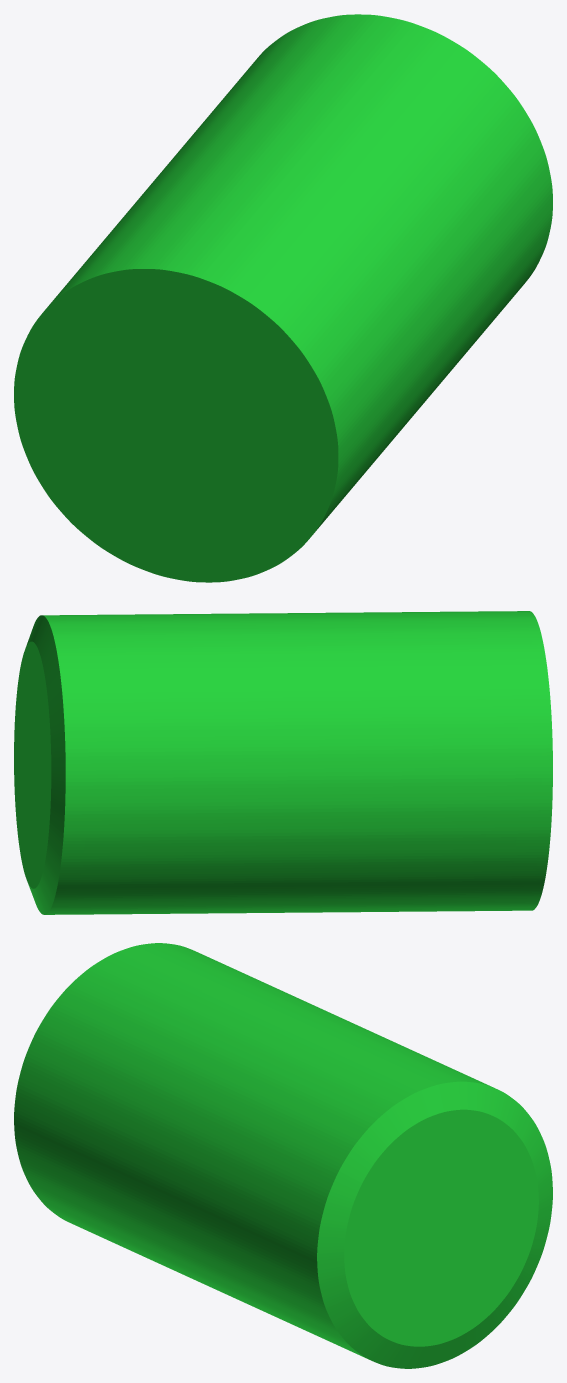
Rendered from cannon.fbx.
3 renders of one model, top to bottom at view 1: azimuth 30°, elevation 25°; view 2: azimuth 150°, elevation 25°; view 3: azimuth 270°, elevation 25°, orthographic. The views are drawn at different scales.
Parts seen in each view (by area): view 1: Cylinder; view 2: Cylinder; view 3: Cylinder.
Part boxes in pixels (x1,y1,x2,y2): Cylinder: (14,14,552,582); Cylinder: (14,611,552,914); Cylinder: (14,943,552,1368).
Size of the model in its own units: 3.8 by 2.17 by 3.59.
